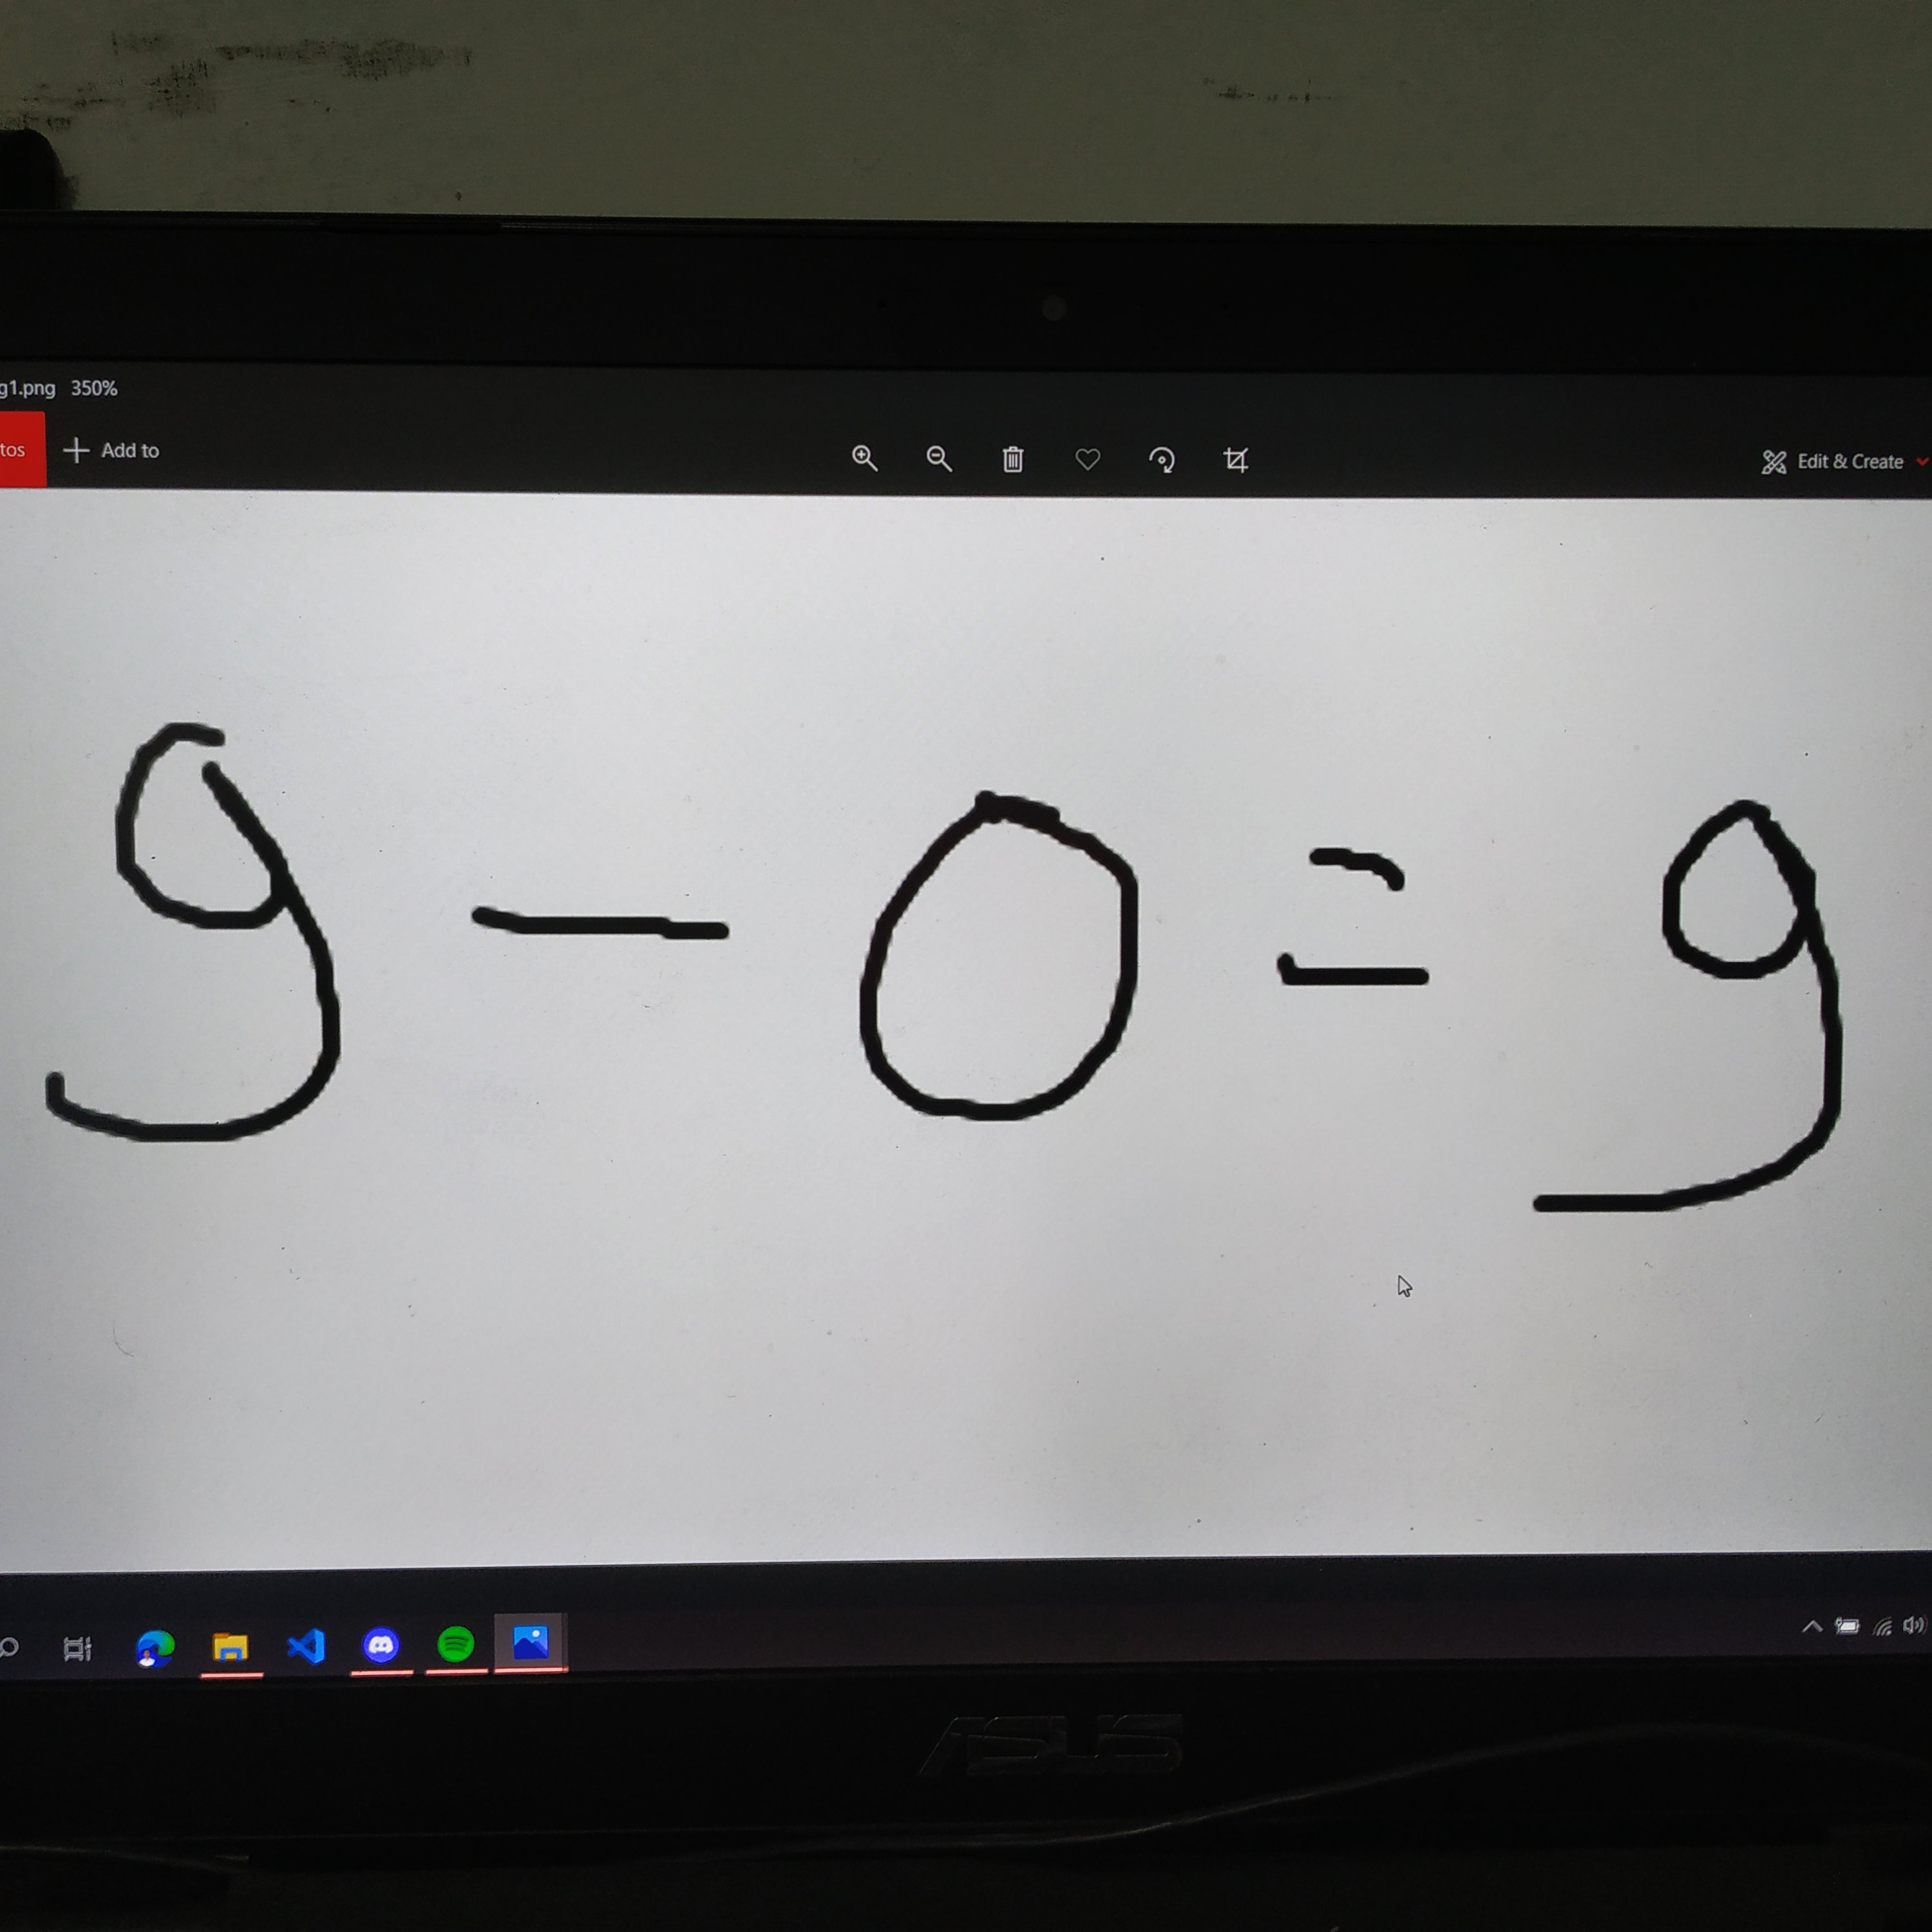equal: (1222, 838, 1461, 1001)
min: (433, 851, 771, 1007)
num0: (836, 739, 1166, 1189)
num9: (1504, 775, 1897, 1236), (29, 710, 359, 1161)
